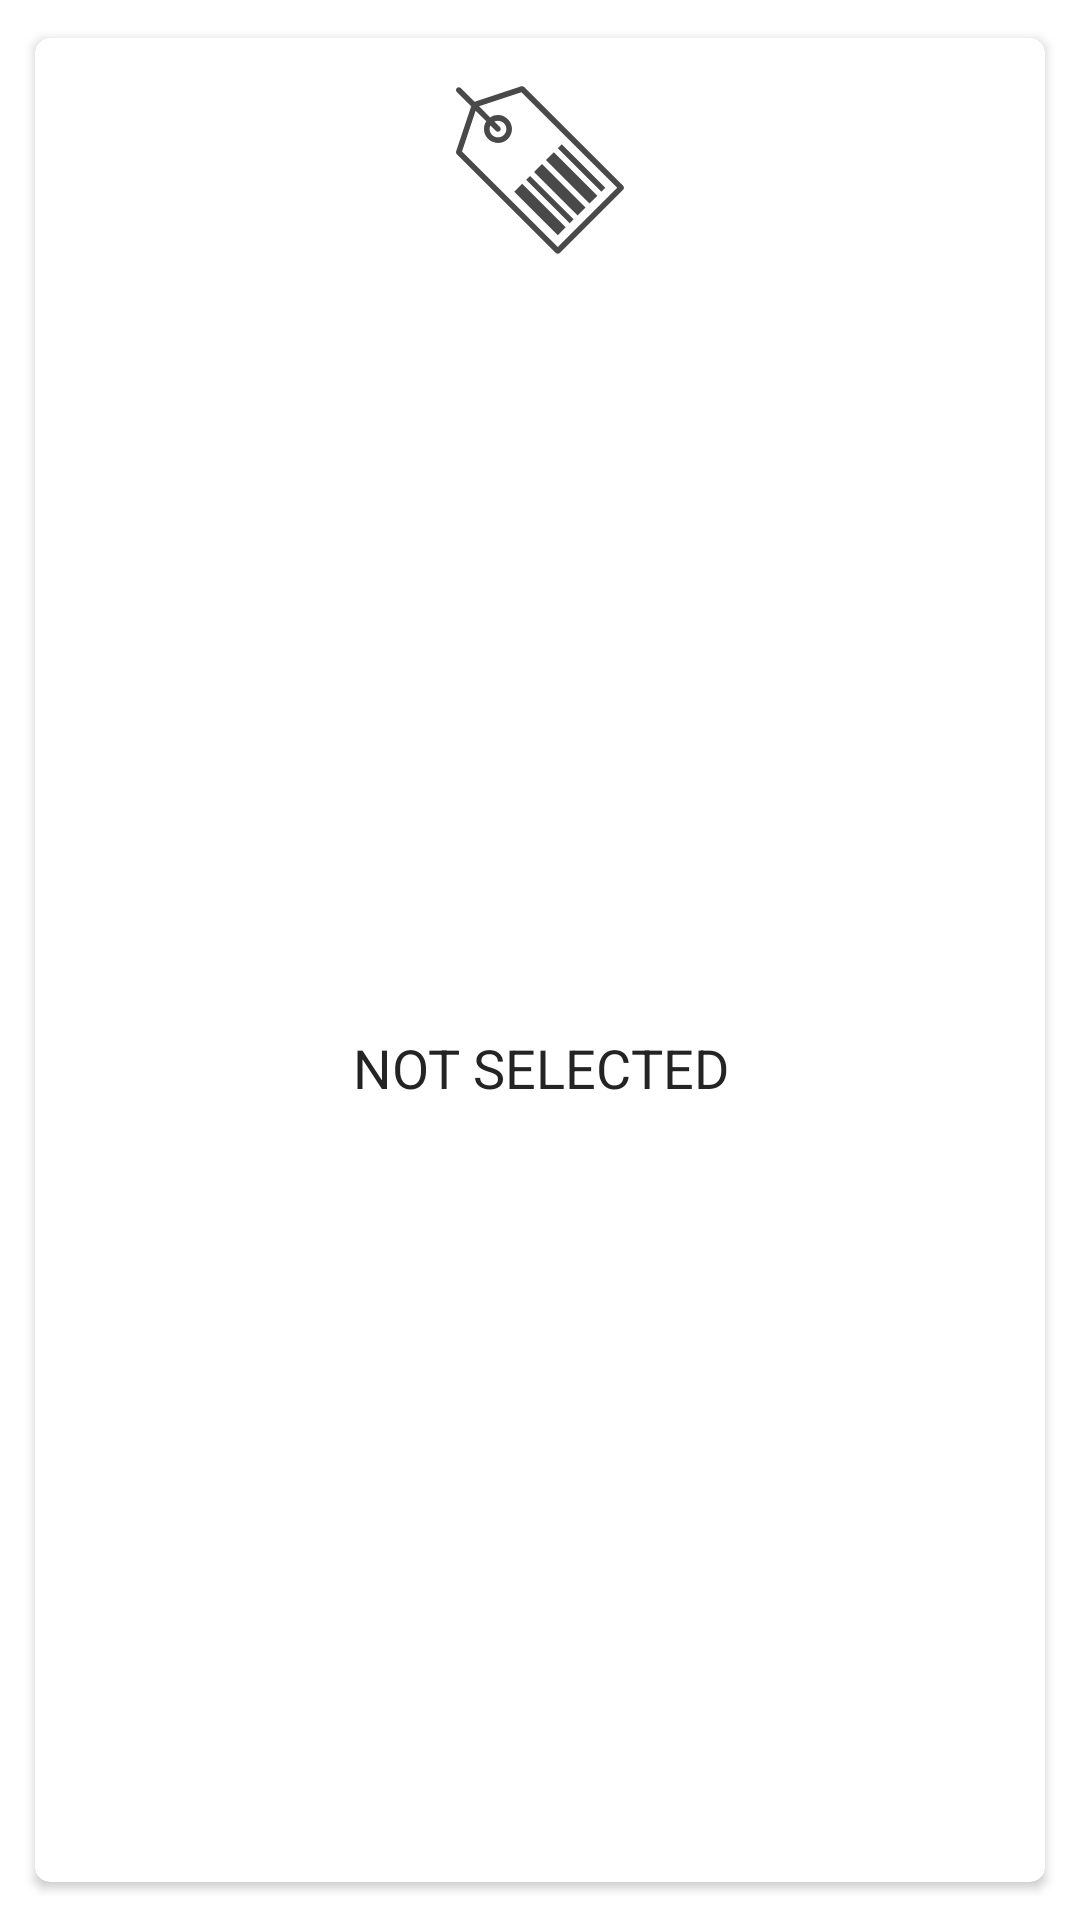

Named icons in this screenshot (1080 × 1920) and their bounding boxes, (x1=x1, y1=y1, x2=x2, y2=y2):
card tag full: (x1=456, y1=86, x2=624, y2=254)
